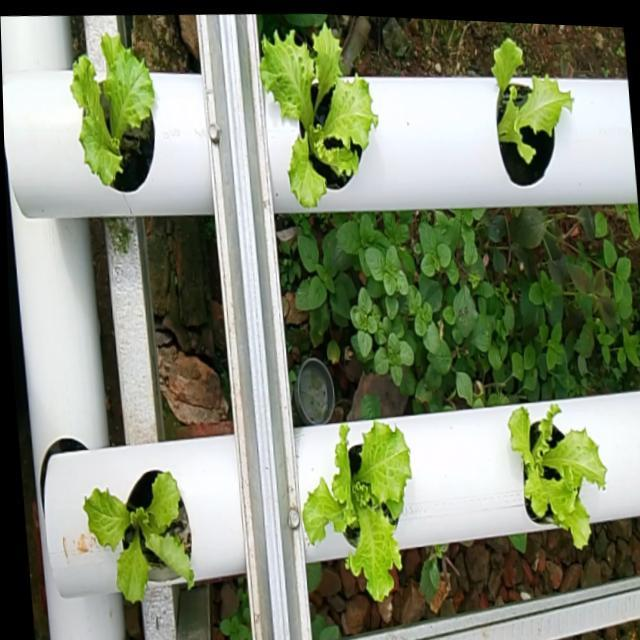Baby: (257, 18, 374, 205), (298, 418, 407, 597), (79, 465, 190, 599), (504, 403, 601, 547), (68, 30, 151, 188), (489, 40, 569, 187)
